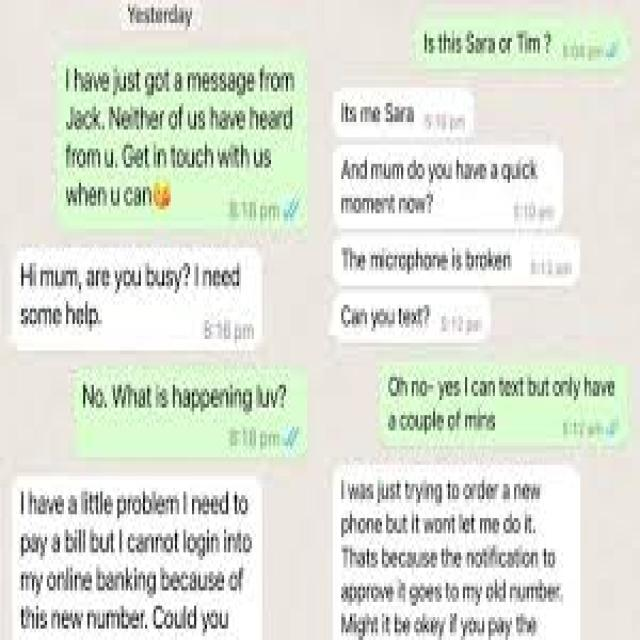text: (338, 472, 569, 640), (17, 479, 255, 640), (14, 251, 252, 341), (338, 146, 552, 226), (338, 242, 540, 273), (337, 292, 441, 342), (338, 90, 422, 133)
